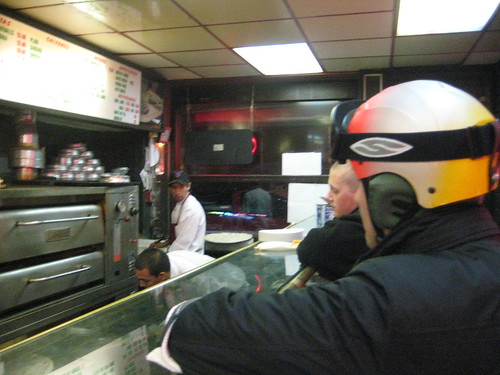helmet: (337, 71, 496, 204)
